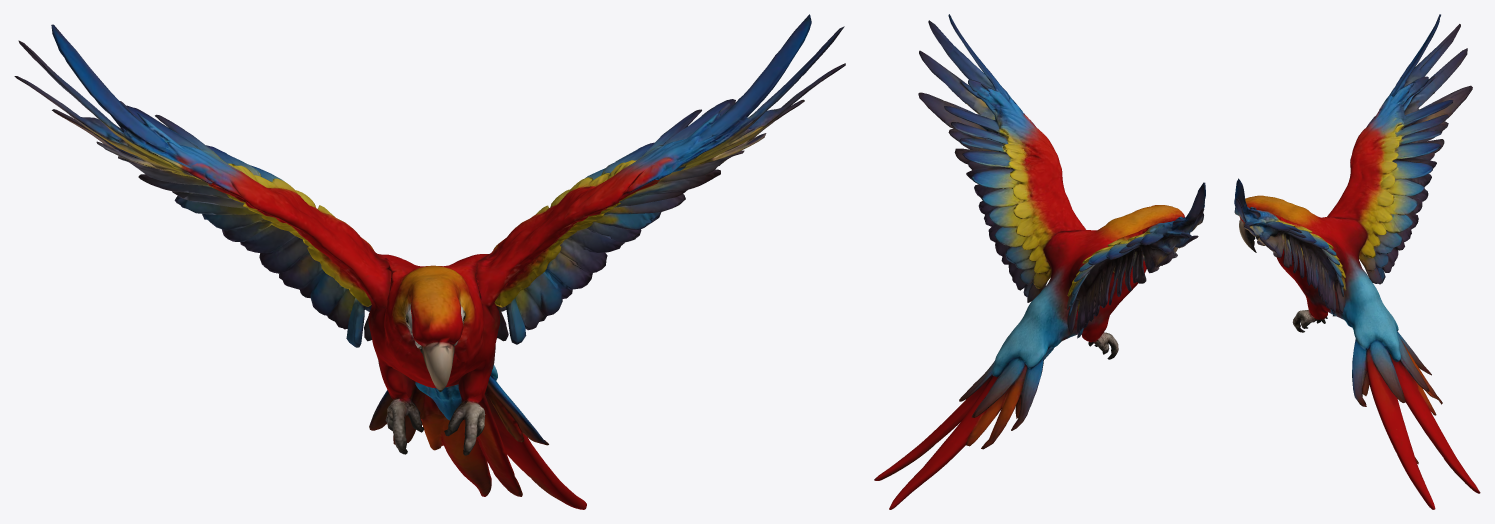
Rendered from guacamaya.glb.
3 views of the same model, side by side, from view 1: azimuth 30°, elevation 25°; view 2: azimuth 150°, elevation 25°; view 3: azimuth 270°, elevation 25° (orthographic). The views are drawn at different scales.
Visible parts, largest first — view 1: tripo_node_351566dc_tripo_mat_351566dc_0; view 2: tripo_node_351566dc_tripo_mat_351566dc_0; view 3: tripo_node_351566dc_tripo_mat_351566dc_0.
Boxes of the visible parts, x1=… form: tripo_node_351566dc_tripo_mat_351566dc_0: x1=14, y1=14, x2=845, y2=509; tripo_node_351566dc_tripo_mat_351566dc_0: x1=874, y1=14, x2=1205, y2=509; tripo_node_351566dc_tripo_mat_351566dc_0: x1=1234, y1=14, x2=1480, y2=509.
Bounding box in the file's own units: 0.9815 × 0.8943 × 0.5714.
Materials: 1 (1 with a texture image).
